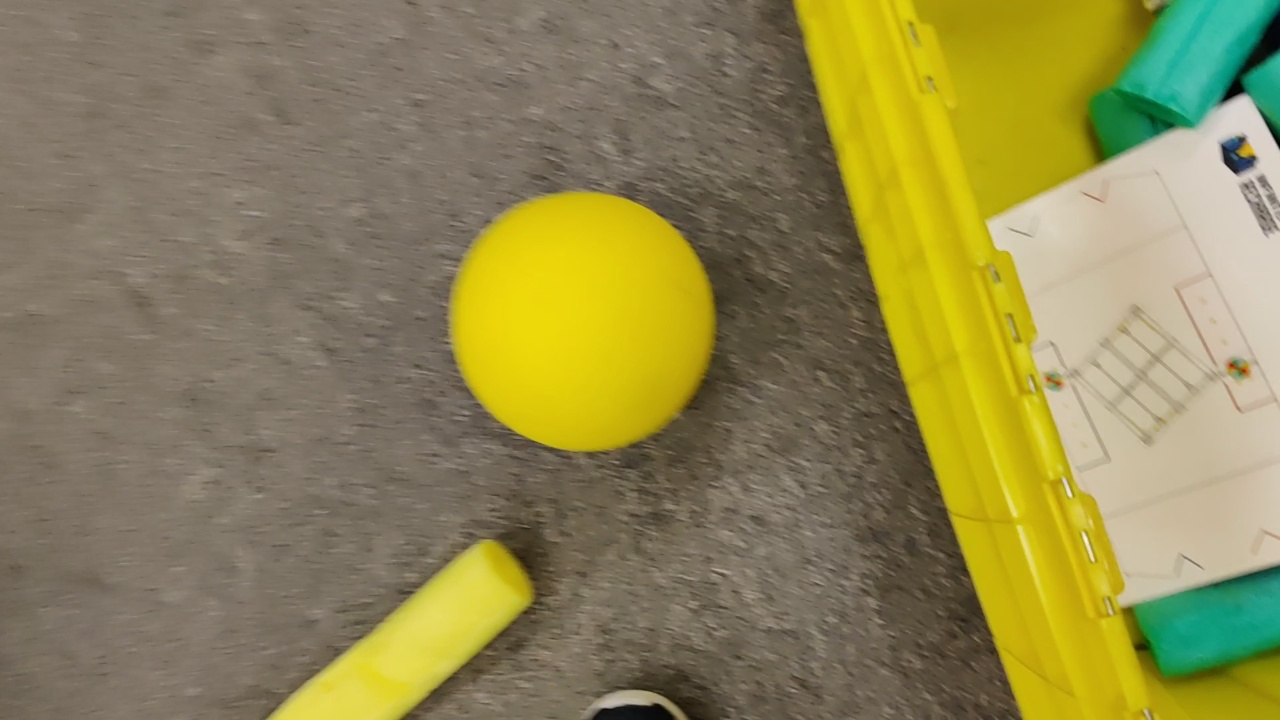Ball: (449, 191, 716, 455)
